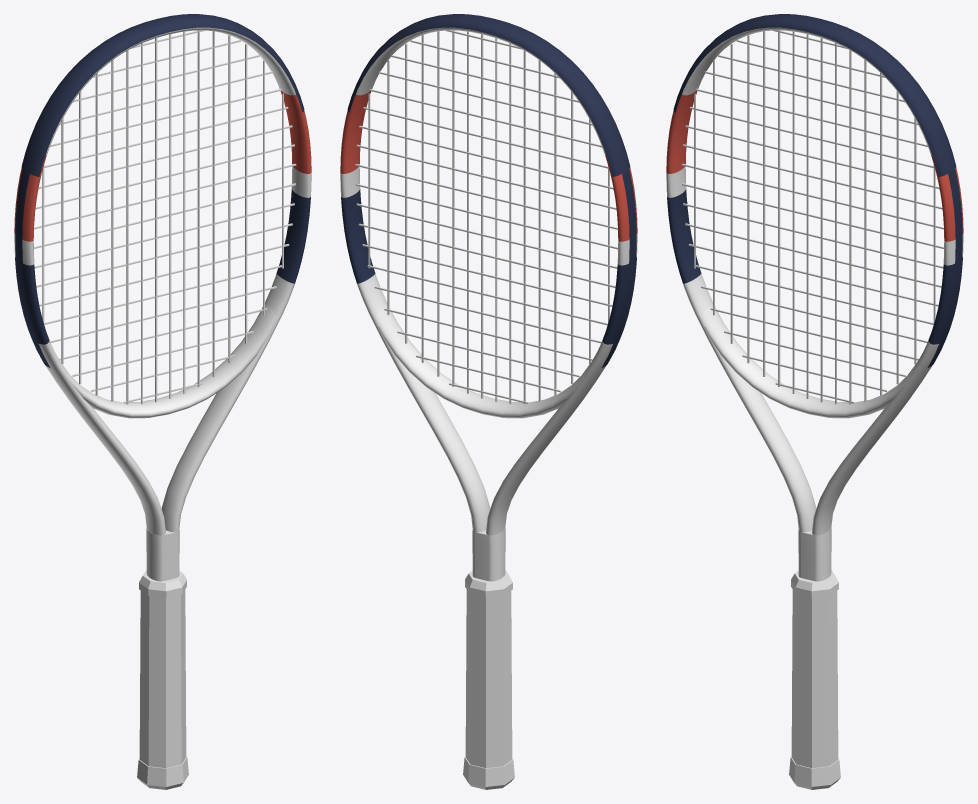
The model's file is babolat-boost-drive-2025--white-coral.glb.
3 renders of one model, left to right at view 1: azimuth 30°, elevation 25°; view 2: azimuth 150°, elevation 25°; view 3: azimuth 330°, elevation 25°, orthographic.
Parts seen in each view (by area): view 1: frame, strings_mains, strings_crosses, grip, bumper, grommets, butt_cap, collar; view 2: frame, strings_mains, strings_crosses, grip, bumper, grommets, butt_cap, collar; view 3: frame, strings_mains, strings_crosses, grip, bumper, grommets, butt_cap, collar.
Boxes of the visible parts, x1=… form: frame: x1=14, y1=27, x2=311, y2=581; strings_mains: x1=42, y1=30, x2=283, y2=404; strings_crosses: x1=34, y1=30, x2=296, y2=403; grip: x1=139, y1=590, x2=186, y2=768; bumper: x1=21, y1=14, x2=304, y2=176; grommets: x1=15, y1=169, x2=50, y2=367; butt_cap: x1=137, y1=756, x2=188, y2=789; collar: x1=139, y1=570, x2=186, y2=597; frame: x1=340, y1=27, x2=637, y2=581; strings_mains: x1=368, y1=30, x2=609, y2=404; strings_crosses: x1=355, y1=30, x2=617, y2=403; grip: x1=465, y1=590, x2=512, y2=768; bumper: x1=347, y1=14, x2=630, y2=176; grommets: x1=601, y1=169, x2=636, y2=367; butt_cap: x1=463, y1=756, x2=514, y2=789; collar: x1=465, y1=570, x2=512, y2=597; frame: x1=666, y1=27, x2=963, y2=581; strings_mains: x1=694, y1=30, x2=935, y2=404; strings_crosses: x1=681, y1=30, x2=943, y2=403; grip: x1=791, y1=590, x2=838, y2=768; bumper: x1=673, y1=14, x2=956, y2=176; grommets: x1=927, y1=169, x2=962, y2=367; butt_cap: x1=789, y1=756, x2=840, y2=789; collar: x1=791, y1=570, x2=838, y2=597.
Bounding box in the file's own units: 0.2738 × 0.6861 × 0.0396.
